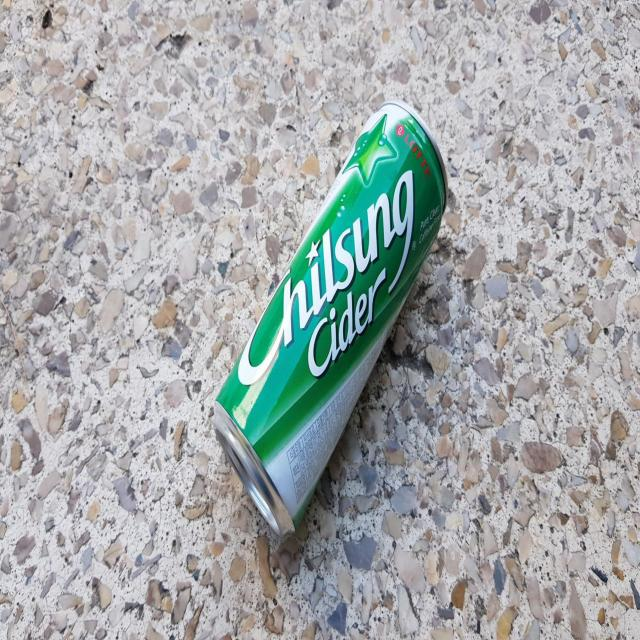can: (214, 99, 448, 538)
